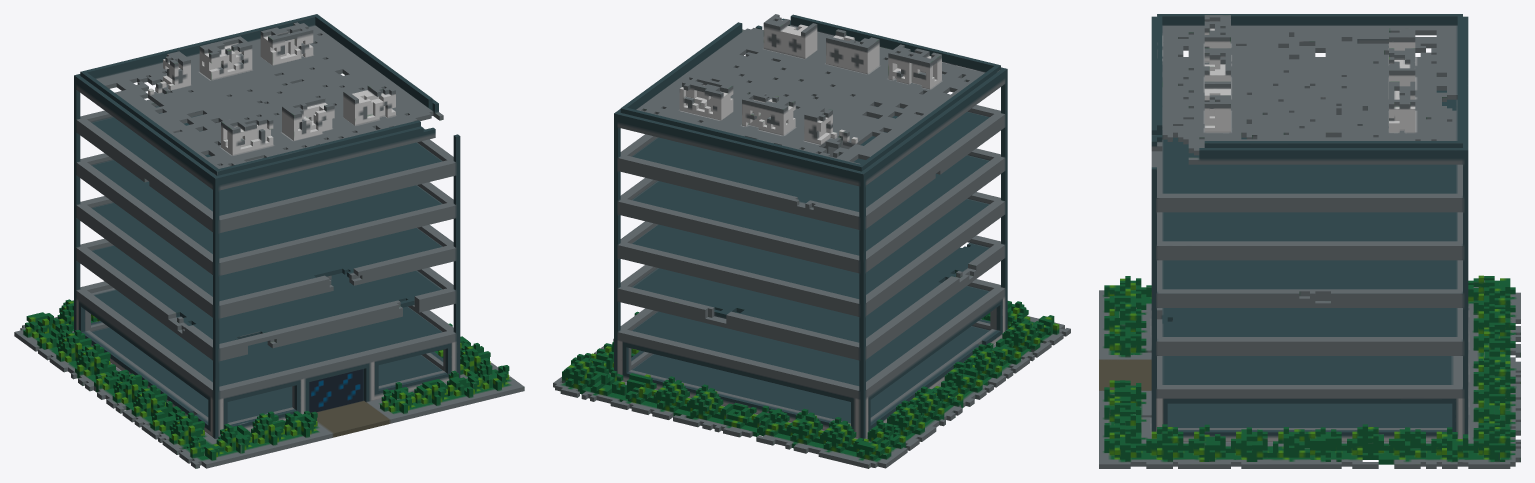
File: building_big_1_destroyed.glb
3 renders of one model, left to right at view 1: azimuth 30°, elevation 25°; view 2: azimuth 150°, elevation 25°; view 3: azimuth 270°, elevation 25°, orthographic. The views are drawn at different scales.
Parts seen in each view (by area): view 1: building_big_1_destroyed; view 2: building_big_1_destroyed; view 3: building_big_1_destroyed.
Boxes of the visible parts, x1,y1,x2,y2 form: building_big_1_destroyed: [14, 14, 524, 468]; building_big_1_destroyed: [553, 14, 1070, 468]; building_big_1_destroyed: [1099, 14, 1520, 468].
Bounding box in the file's own units: 8 × 6.7 × 8.
1 material, 1 textured.
